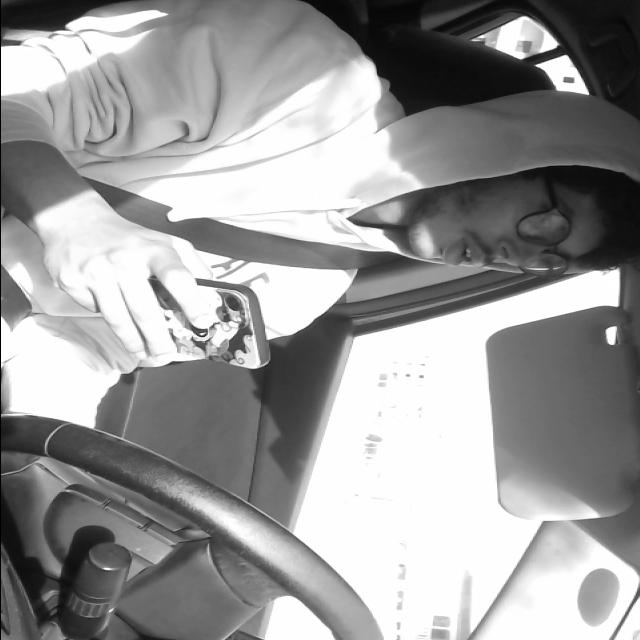mobile use: (113, 277, 275, 369)
